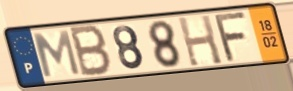8: (145, 19, 183, 70), (112, 24, 146, 72)
B: (68, 23, 114, 79)
F: (214, 10, 250, 65)
H: (175, 13, 225, 68)
M: (32, 29, 83, 80)
